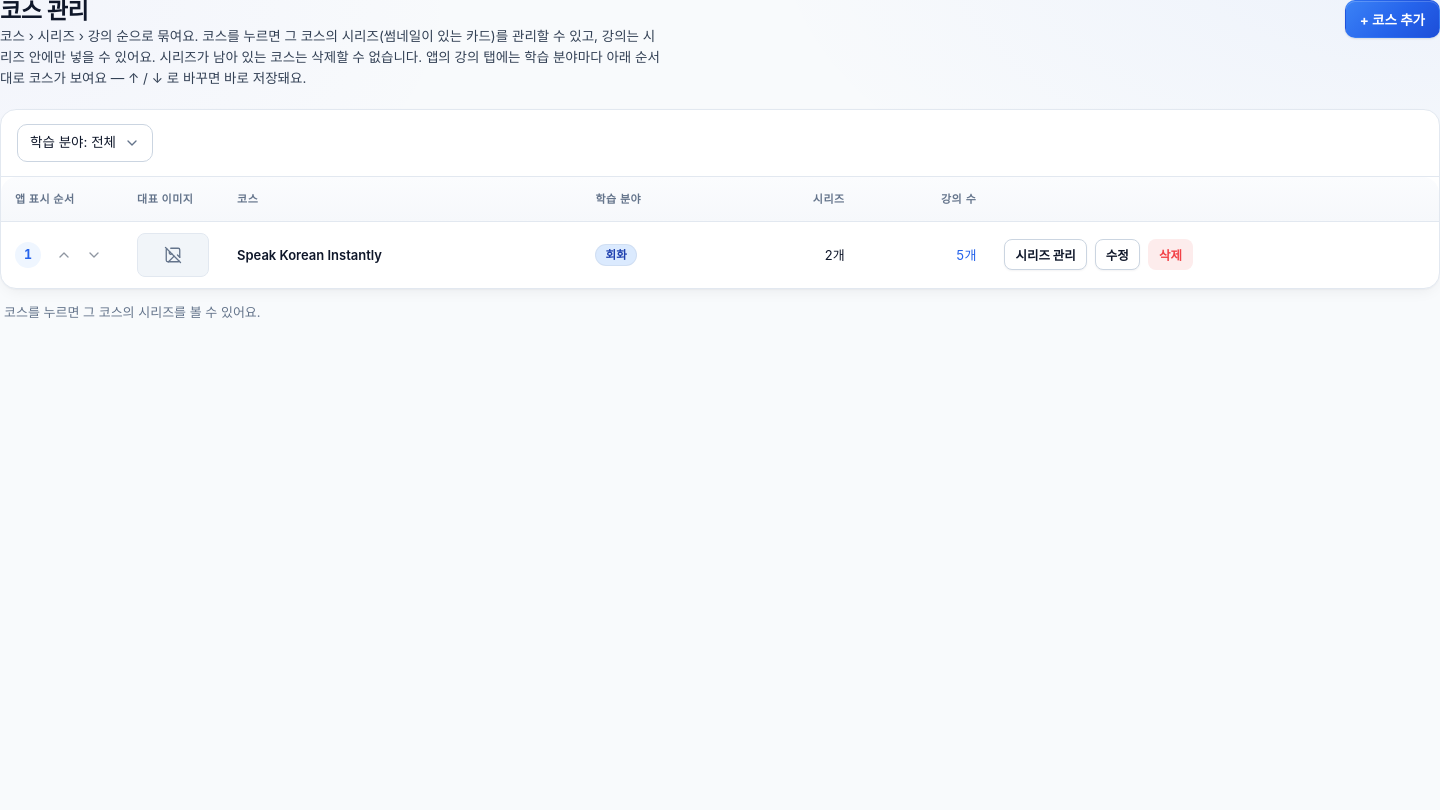
Test case: CoursesPage series › explains that a course with series cannot be deleted
The image size is (1440, 810).
Expected: the text "Speak Korean Instantly" is shown, [237,244,382,266]
Click the button "삭제". click: (1170, 255)
box: [1148,239,1193,270]
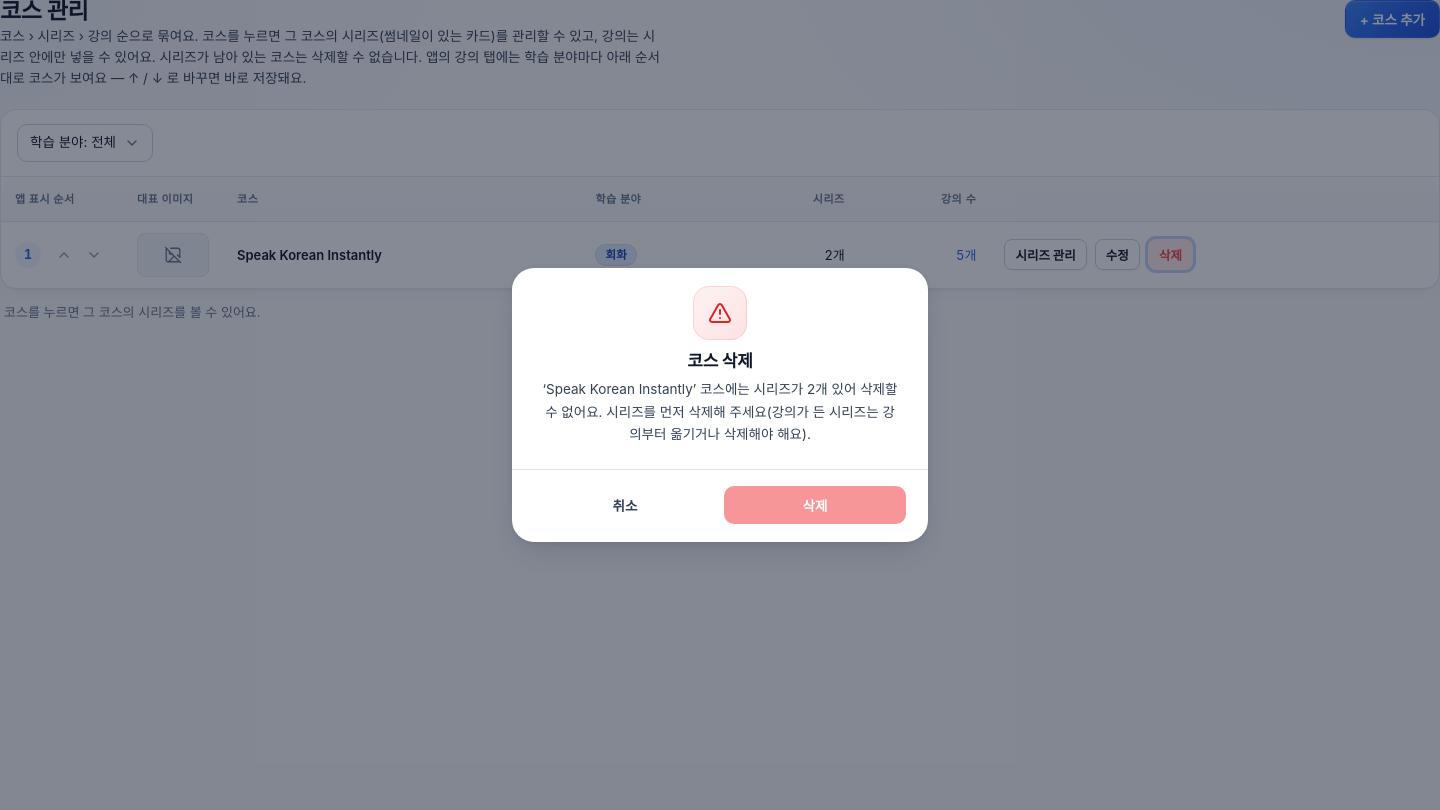
Expected: the text "시리즈가 2개 있어 삭제할 수 없어요" is shown, [543,381,897,442]
Expected: the button "삭제" is disabled, [724,486,906,524]
